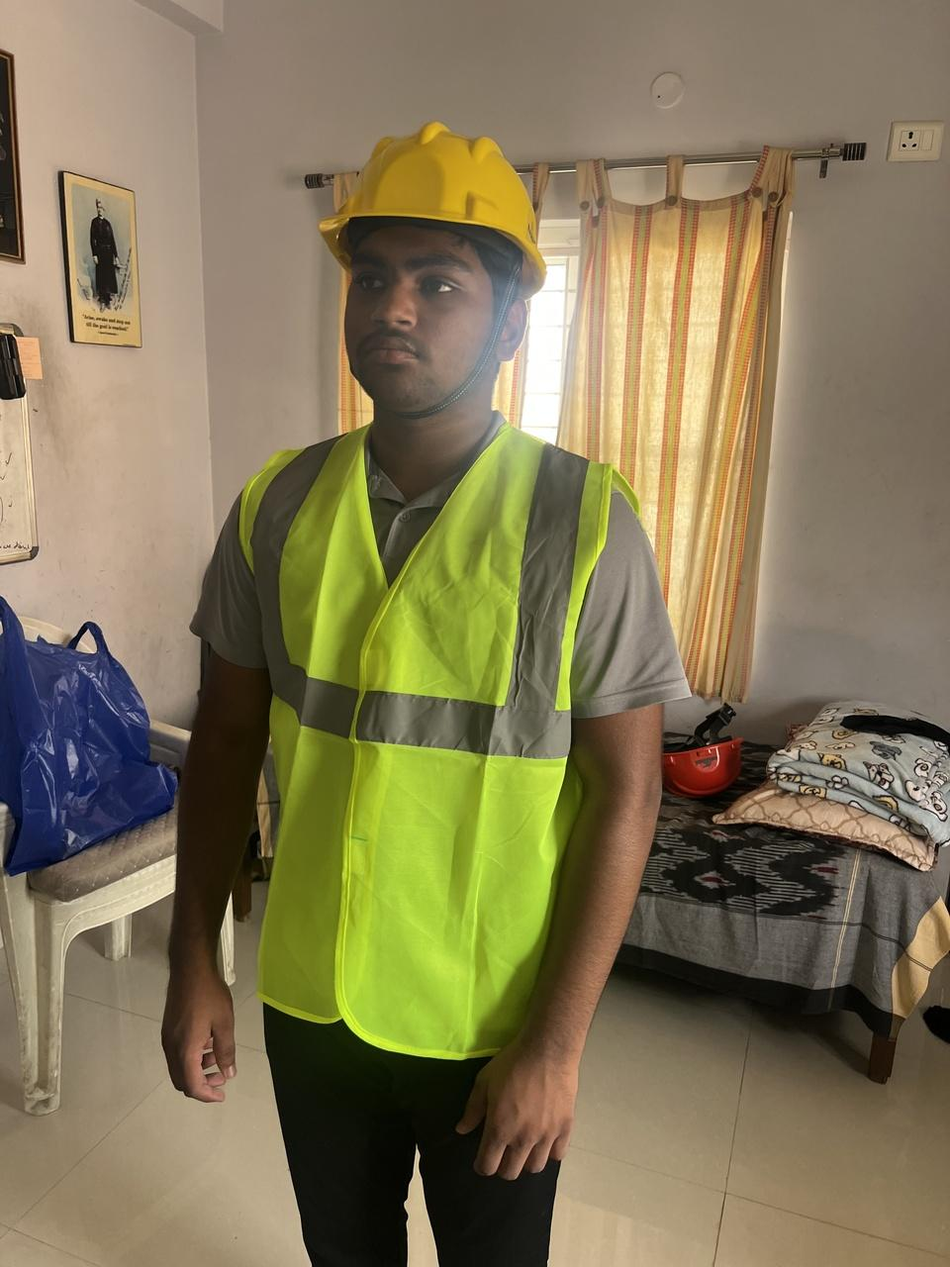Helmet: (317, 119, 548, 304)
Person: (164, 139, 692, 1267)
Vest: (238, 416, 644, 1064)
